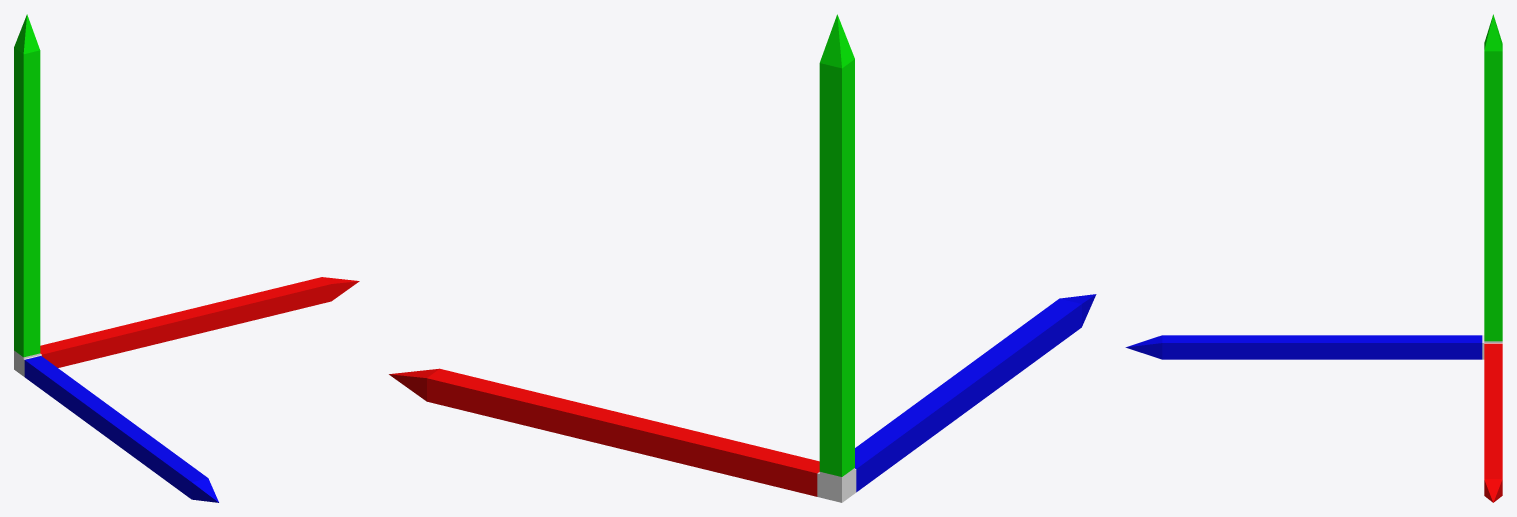
The model's file is axis.obj.
3 views of the same model, side by side, from view 1: azimuth 30°, elevation 25°; view 2: azimuth 150°, elevation 25°; view 3: azimuth 270°, elevation 25° (orthographic). The views are drawn at different scales.
Size of the model in its own units: 1.03 by 1.03 by 1.03.
